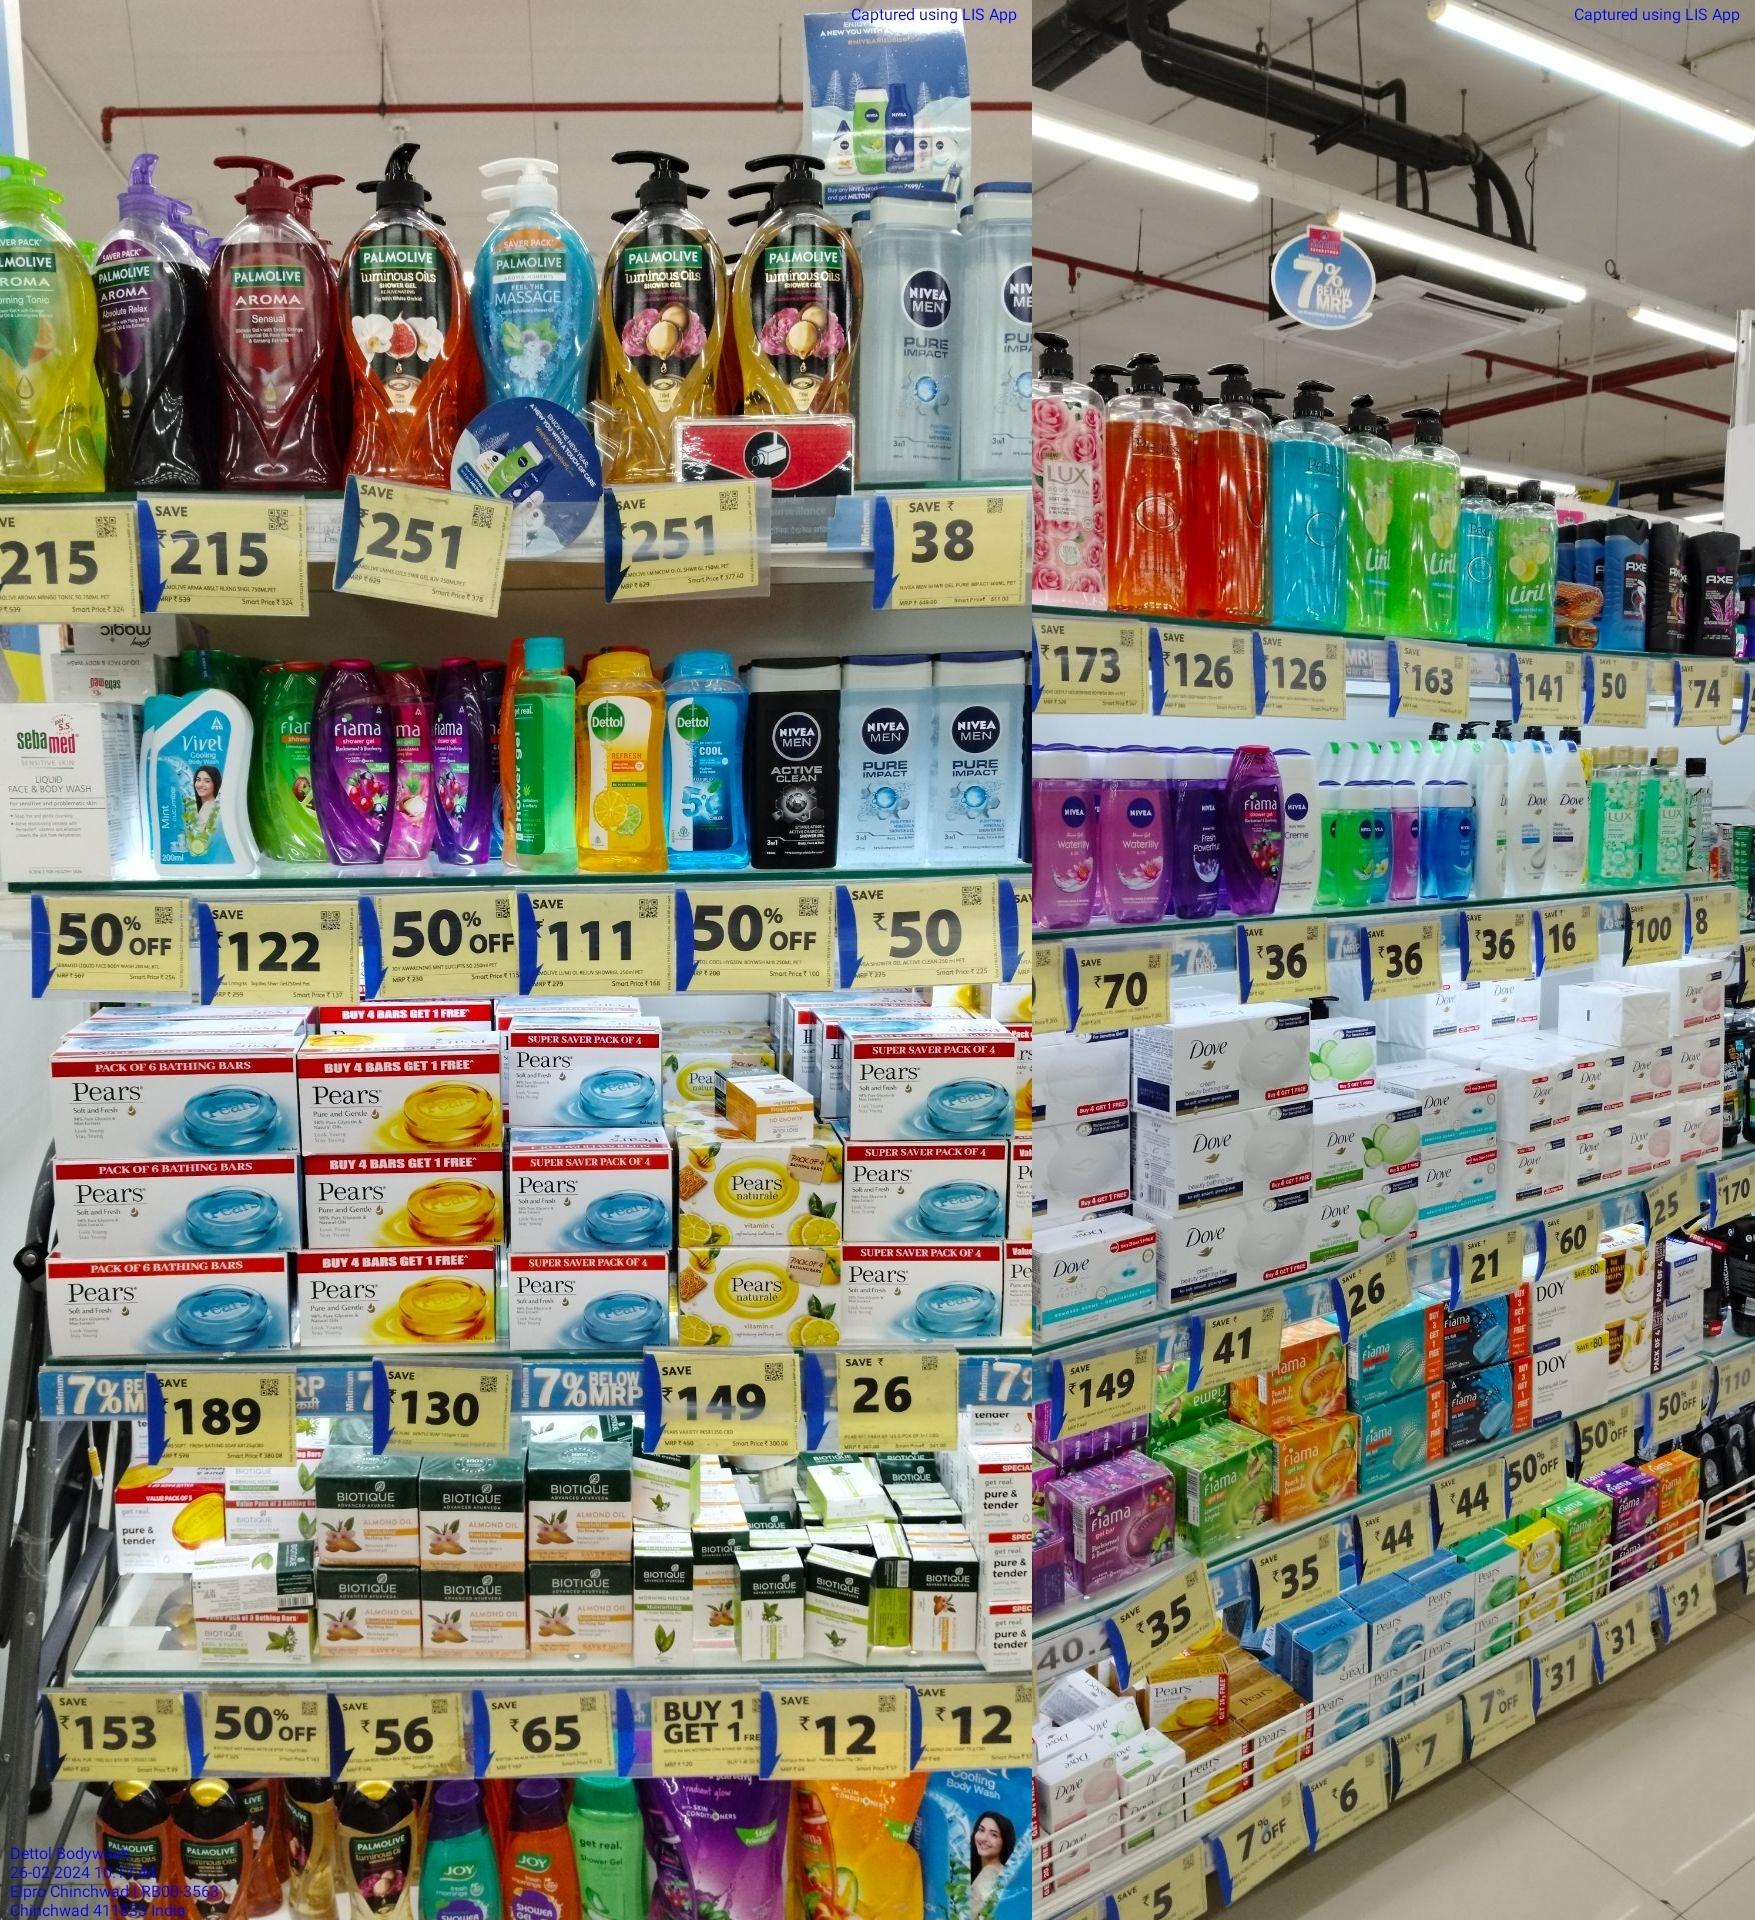Dettol_Bodywash_Cool: (669, 651, 753, 870)
Dettol_Bodywash_Refresh: (576, 652, 668, 873)
Dove_Deep_Moisture_Body_Wash_250ML: (1551, 739, 1589, 893)
Dove_Gentle_Exfoliating_Body_Wash_250ML: (1512, 738, 1548, 896)
Dove_Refreshing_Body_Wash_250ML: (1474, 736, 1507, 898)
Joy_Shower_Gel_Mandarin_and_Lemongrass_250ML: (499, 1788, 572, 1920)
Joy_Shower_Gel_Mint_and_Eucalyptus_250ML: (427, 1790, 495, 1920)
Lux_Body_Wash_Skin_Detox_Freesia_Scent_and_Alove_Vera_245ML: (1603, 744, 1643, 888), (1650, 746, 1688, 885)
Palmolive_Luminous_Oils_Invigorating_Macadamia_Oil_With_Peony_250ML: (340, 1785, 420, 1920)
Palmolive_Luminous_Oils_With_White_Orchid_Shower_Gel_250ML: (172, 1785, 246, 1920), (95, 1785, 166, 1920)
